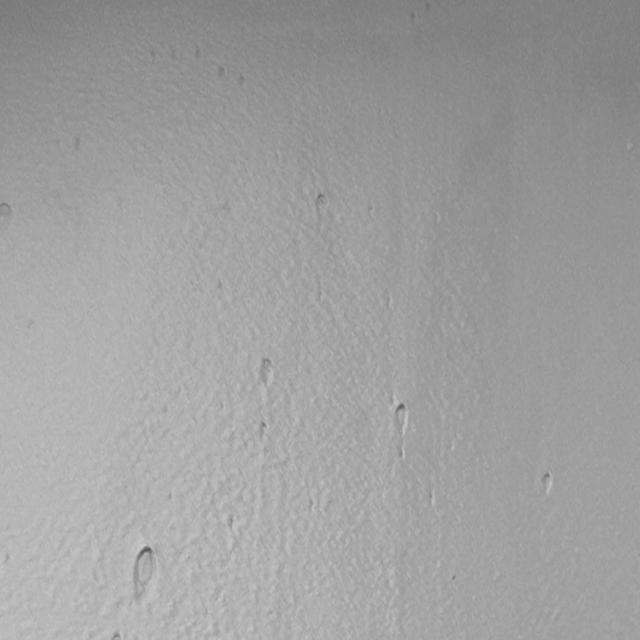pin holes: (126, 543, 162, 602), (256, 355, 278, 389), (390, 403, 411, 433), (536, 470, 556, 496), (0, 201, 16, 225), (255, 420, 271, 442), (314, 191, 328, 213), (225, 510, 237, 534), (396, 440, 408, 462), (235, 75, 248, 94), (426, 486, 437, 508), (421, 1, 435, 18), (217, 64, 230, 81), (112, 628, 126, 639)
